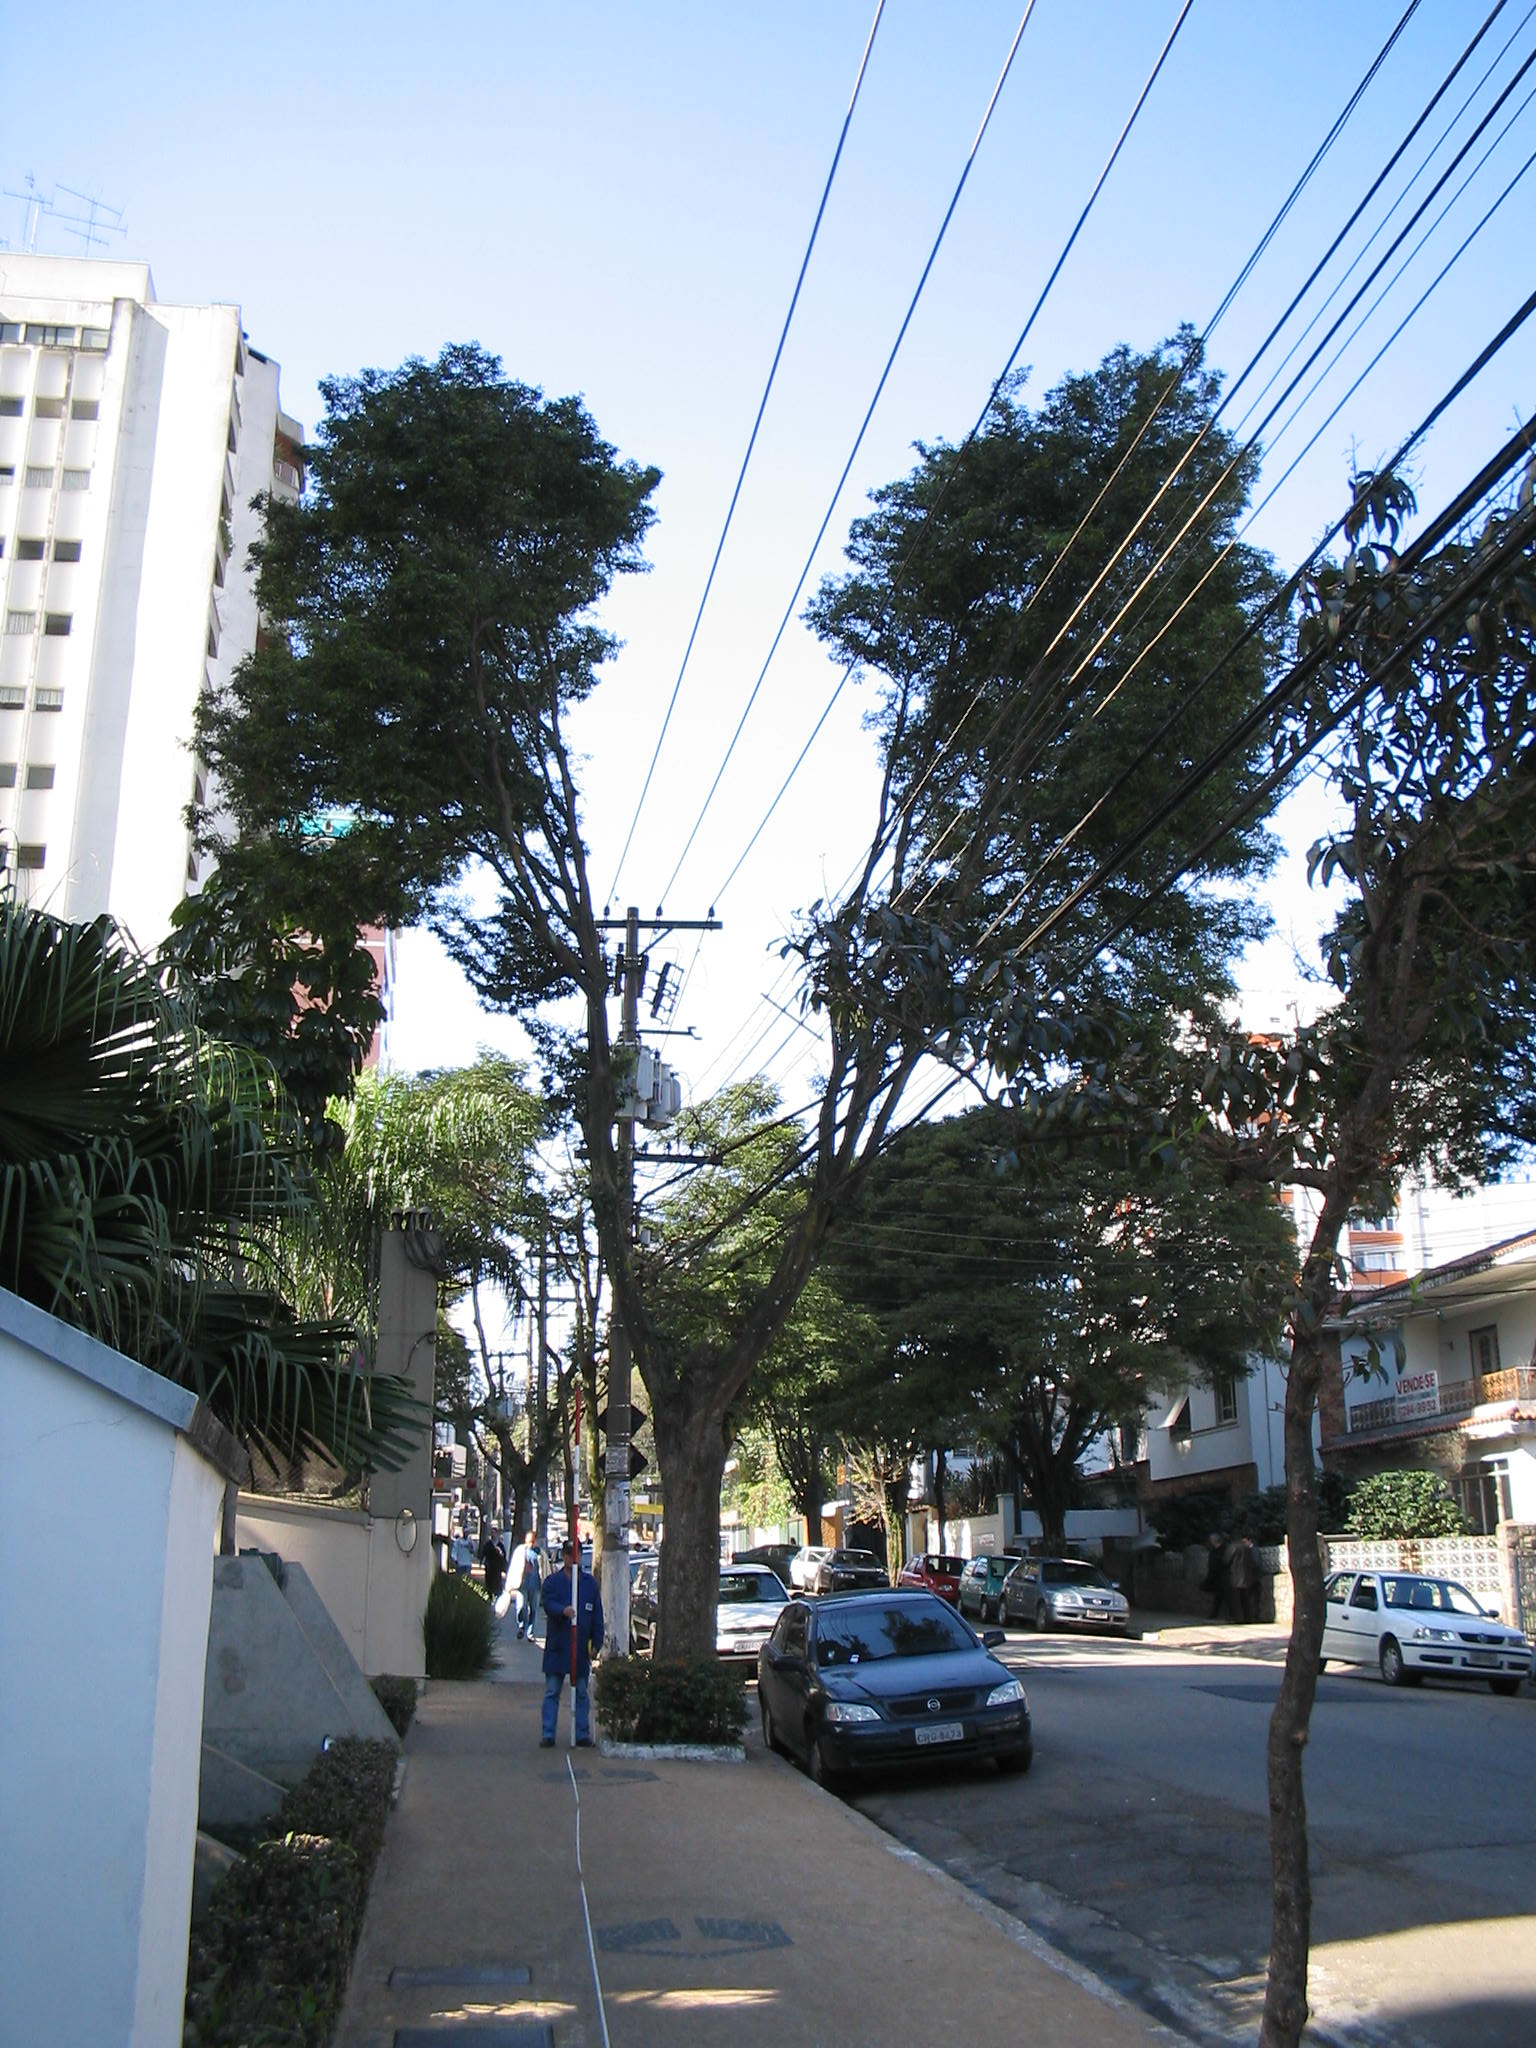crown: (186, 337, 1286, 1116)
stem: (1228, 1190, 1412, 2037), (624, 1390, 758, 1748)
stick: (547, 1385, 608, 1748)
tree: (181, 334, 1292, 1750), (836, 463, 1520, 2040)
